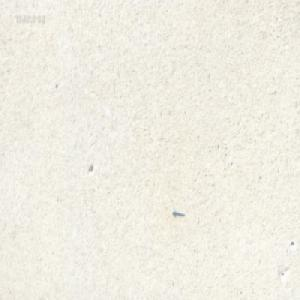Nail: (172, 209, 185, 217)
